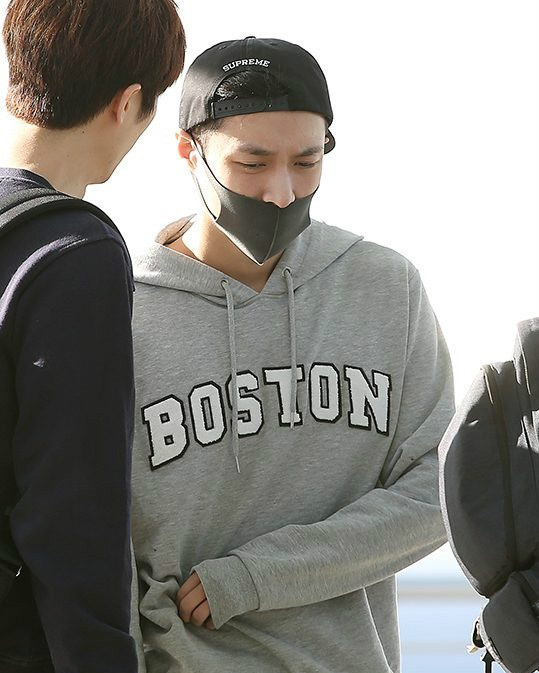face_mask: (203, 94, 323, 260)
